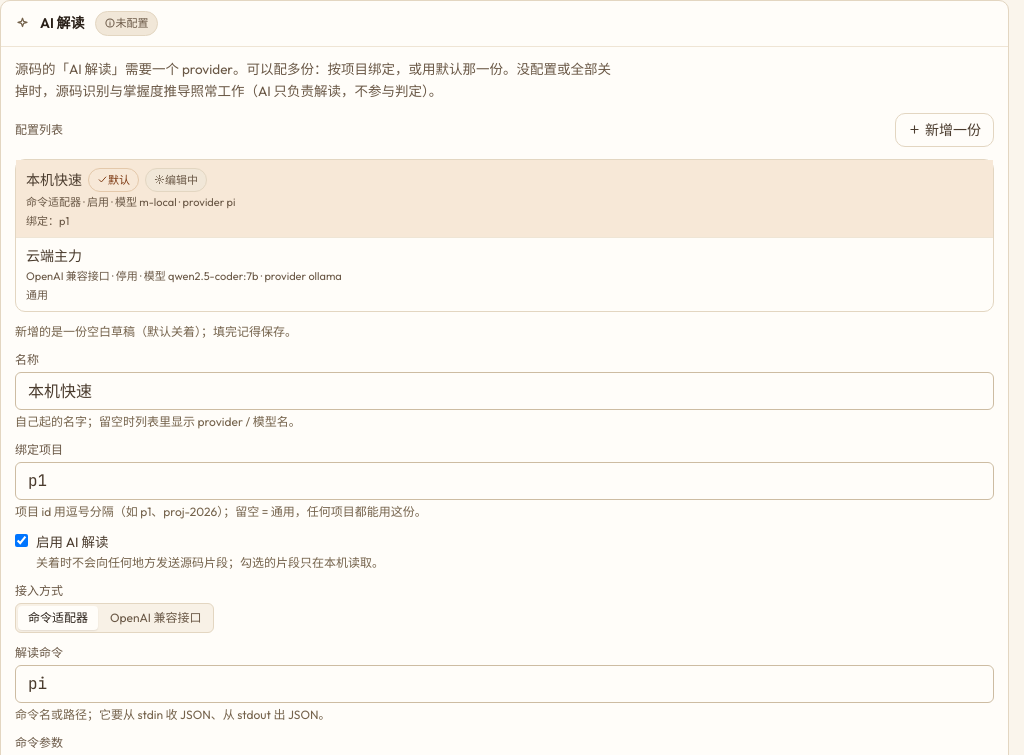
Test: M9 · 「AI 解读」区 · 多份并存 › ② 点另一份 ⇒ **编辑区切到那一份**（表单值随之变）
Check: the field labelled "解读命令" holds "pi", box [15, 664, 994, 702]
Click the button "云端主力" at (54, 256), box [16, 238, 993, 311]
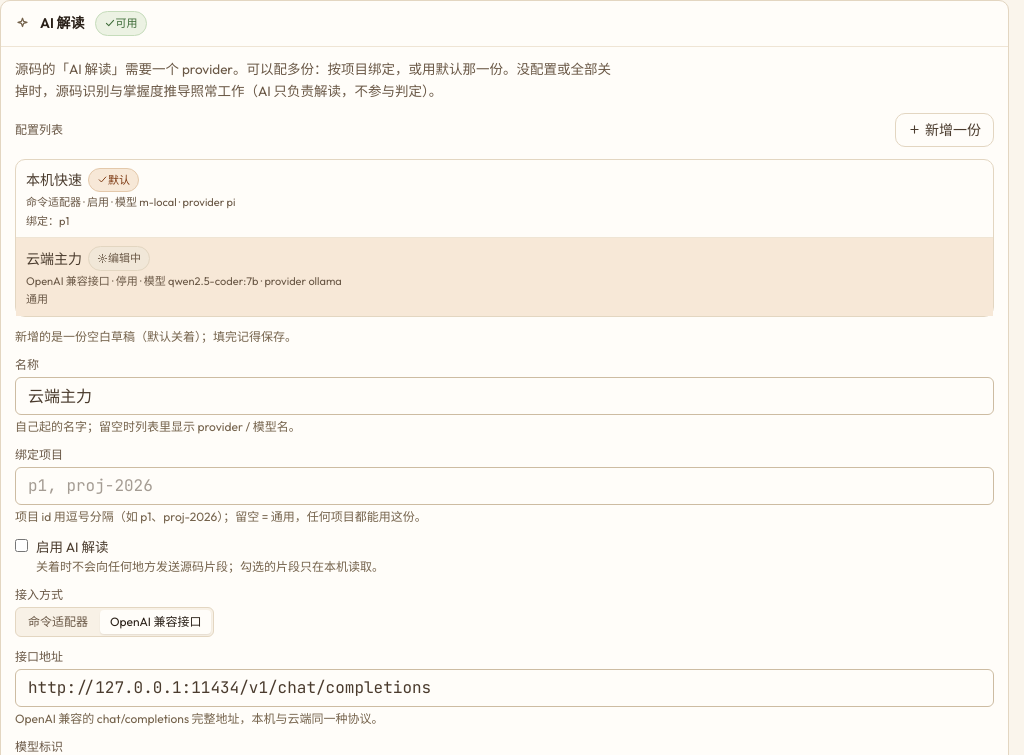
Check: the field labelled "接口地址" holds "http://127.0.0.1:11434/v1/chat/completions", box [15, 669, 994, 707]
Check: the label labelled "解读命令" is gone
